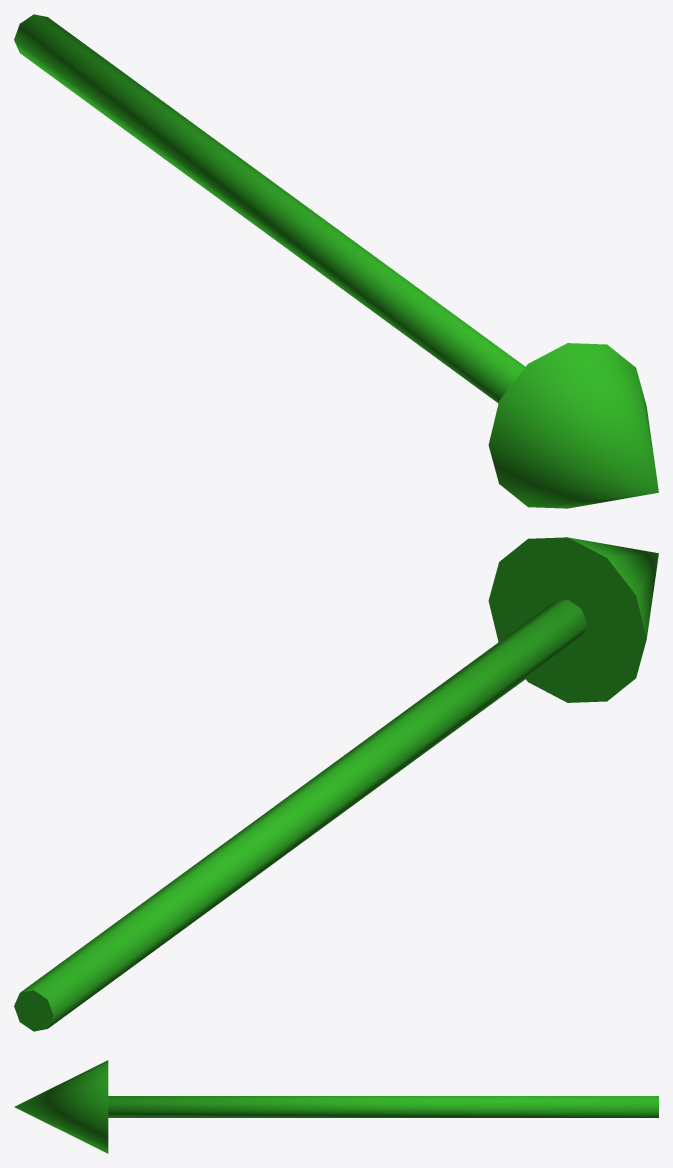
File: drag_green_merged.glb
The picture shows the model from 3 angles, top to bottom: view 1: azimuth 30°, elevation 25°; view 2: azimuth 150°, elevation 25°; view 3: azimuth 270°, elevation 25°; orthographic projection. The views are drawn at different scales.
Visible parts, largest first — view 1: yDragCone.; view 2: yDragCone.; view 3: yDragCone..
Boxes of the visible parts, x1,y1,x2,y2 form: yDragCone.: (14, 14, 658, 508); yDragCone.: (14, 537, 658, 1031); yDragCone.: (14, 1060, 658, 1153).
Size of the model in its own units: 0.2 by 0.2 by 1.37.
